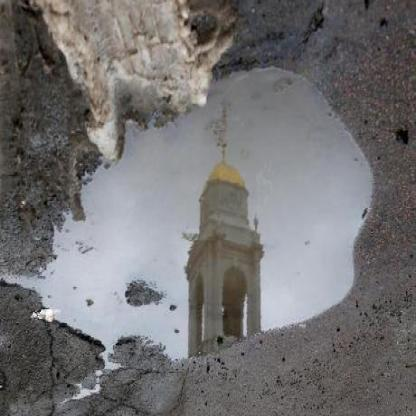pothole: (16, 68, 376, 371)
